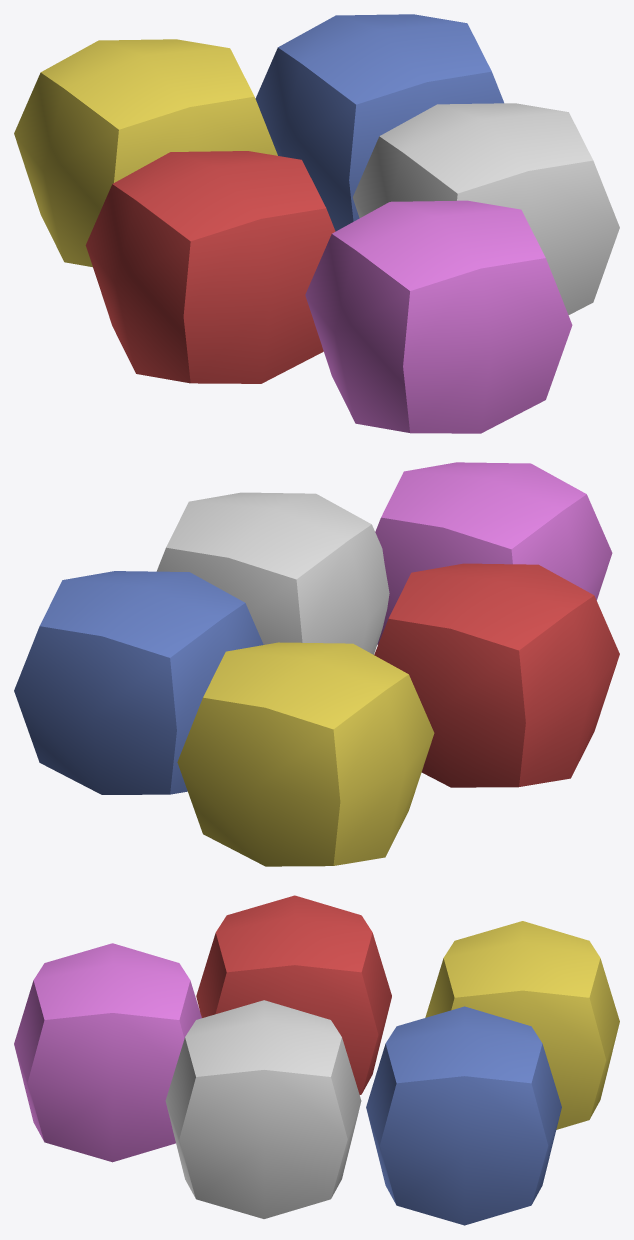
Rendered from murmel.fbx.
3 views of the same model, one above another, from view 1: azimuth 30°, elevation 25°; view 2: azimuth 150°, elevation 25°; view 3: azimuth 270°, elevation 25° (orthographic). The views are drawn at different scales.
Parts seen in each view (by area): view 1: Cube170; view 2: Cube170; view 3: Cube170.
Part boxes in pixels (x1,y1,x2,y2): Cube170: [14, 14, 619, 433]; Cube170: [14, 462, 619, 866]; Cube170: [14, 895, 619, 1225].
Size of the model in its own units: 121 by 49.64 by 157.
